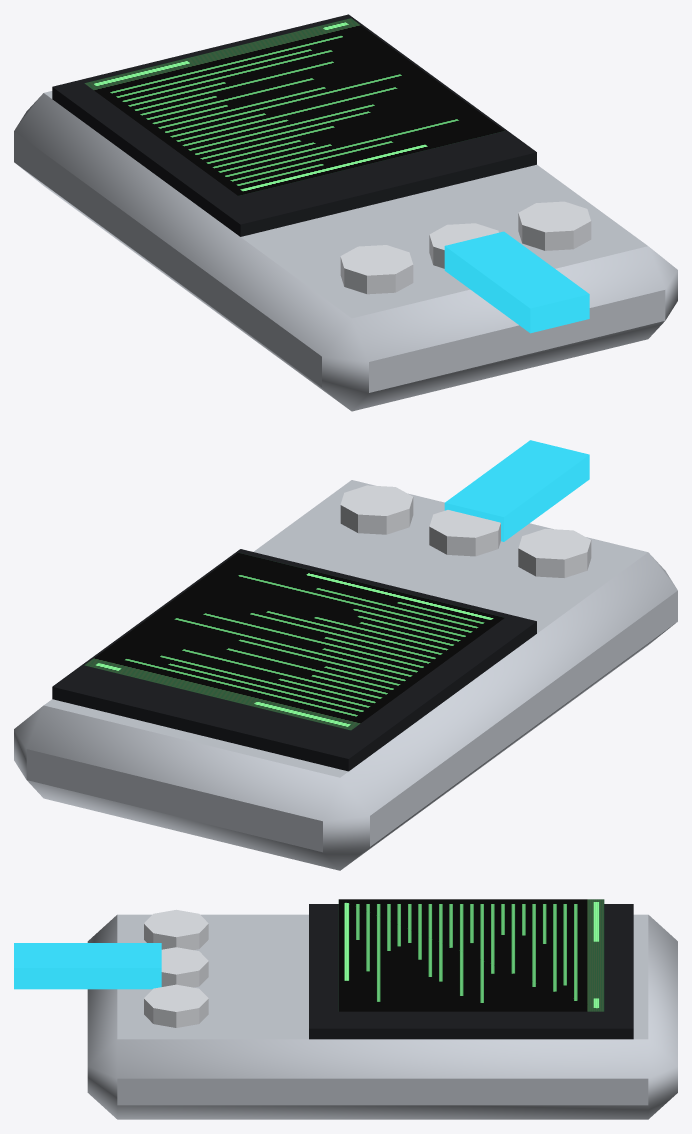
Rendered from terminal_portable_reader.glb.
3 renders of one model, top to bottom at view 1: azimuth 30°, elevation 25°; view 2: azimuth 150°, elevation 25°; view 3: azimuth 270°, elevation 25°, orthographic. The views are drawn at different scales.
Visible parts, largest first — view 1: terminal_portable_reader; view 2: terminal_portable_reader; view 3: terminal_portable_reader.
Part boxes in pixels (x1,y1,x2,y2): terminal_portable_reader: (14,14,677,411); terminal_portable_reader: (14,440,677,870); terminal_portable_reader: (14,899,677,1119).
Size of the model in its own units: 0.12 by 0.038 by 0.225.
5 materials, 1 textured.
